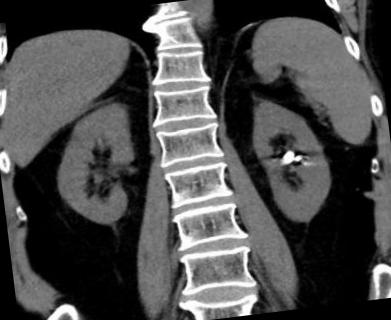Tas_Var: (281, 149, 295, 166), (294, 154, 304, 163), (302, 160, 308, 166)
